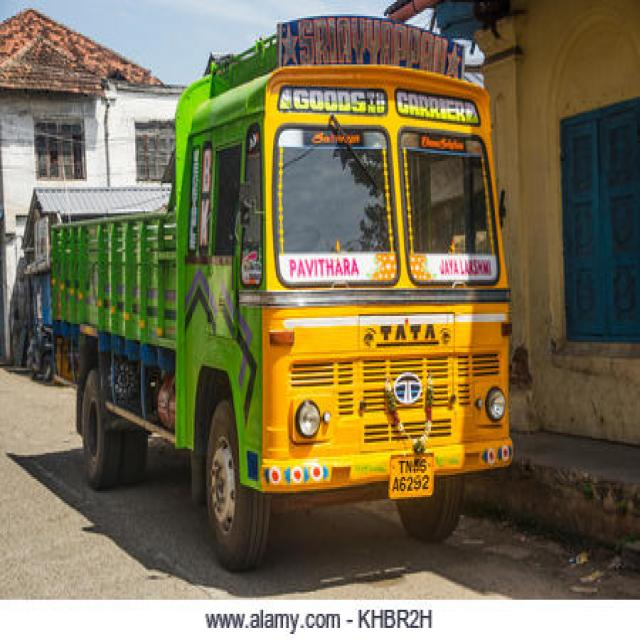Trucks: (52, 17, 511, 569)
